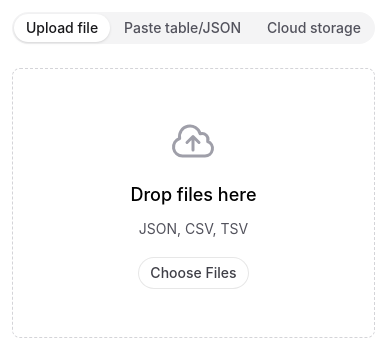
ImportSourceTabs — rendering › renders the injected cloud panel when provided
Click the button with test id "test-import-cloud-tab" at (314,28), box [255,14,373,42]
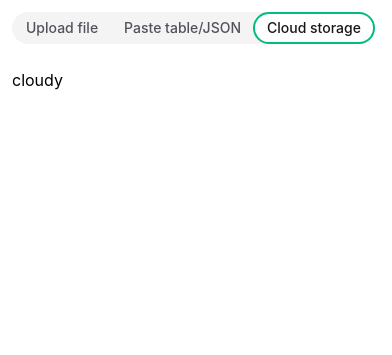
Now the text "cloudy" is shown, box [12,70,63,90]
